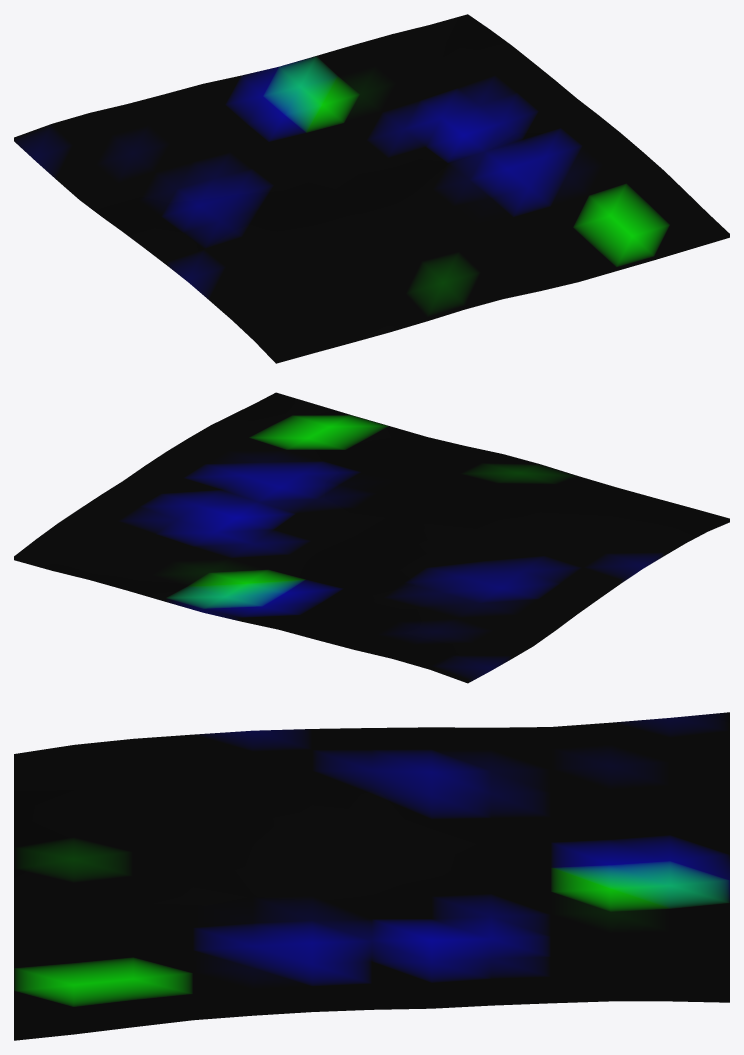
Rendered from coast_3_1.glb.
The picture shows the model from 3 angles, top to bottom: view 1: azimuth 30°, elevation 25°; view 2: azimuth 150°, elevation 25°; view 3: azimuth 270°, elevation 25°; orthographic projection. The views are drawn at different scales.
Visible parts, largest first — view 1: terrain; view 2: terrain; view 3: terrain.
Boxes of the visible parts, x1,y1,x2,y2 form: terrain: (14,14,729,363); terrain: (14,392,729,683); terrain: (14,712,729,1040).
Size of the model in its own units: 192 by 19.35 by 192.
